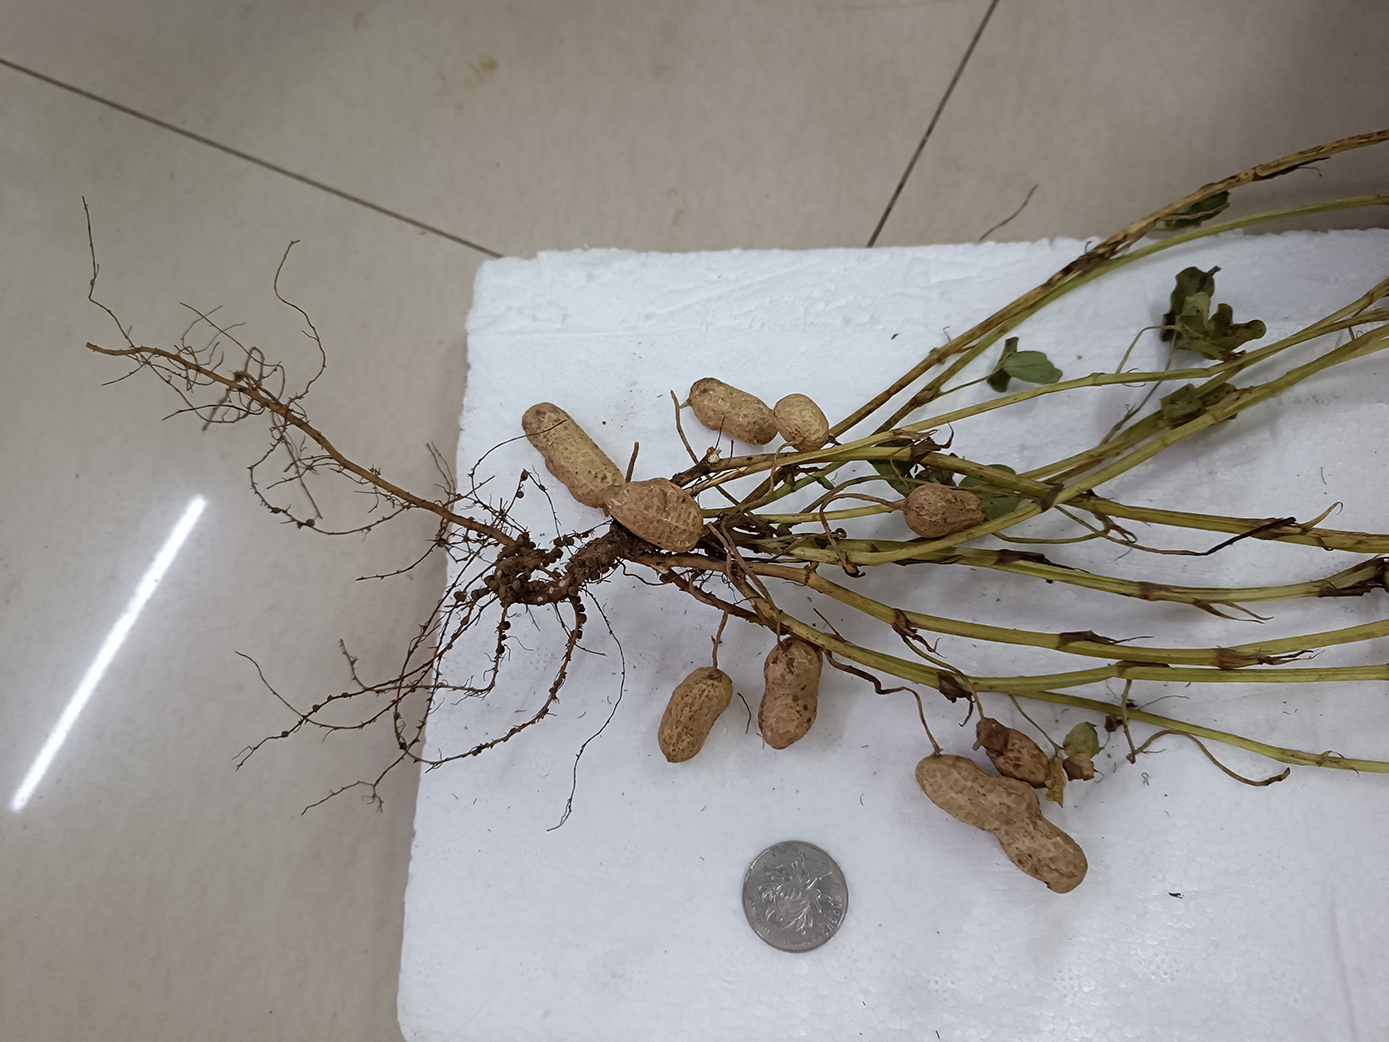h: (917, 752, 1088, 894), (524, 402, 624, 506), (656, 667, 733, 765), (756, 639, 822, 750), (607, 481, 703, 546), (688, 377, 776, 445), (903, 484, 985, 535), (776, 393, 827, 450)
l: (975, 718, 1053, 785)
